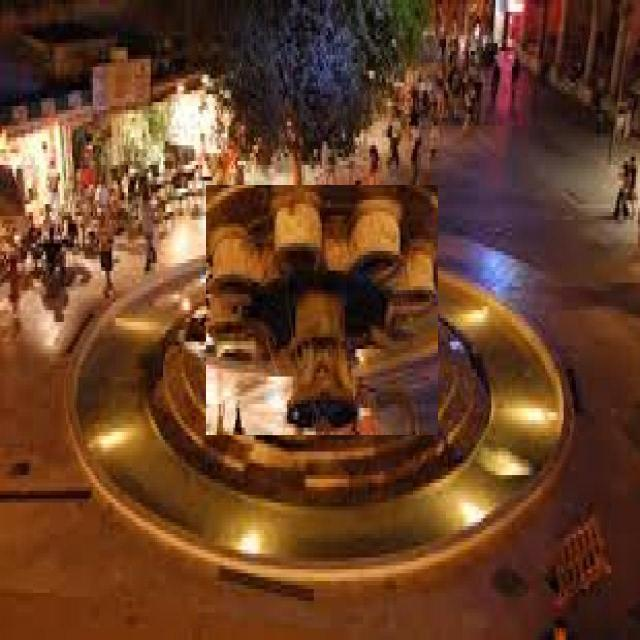Liontaria: (207, 186, 439, 436)
